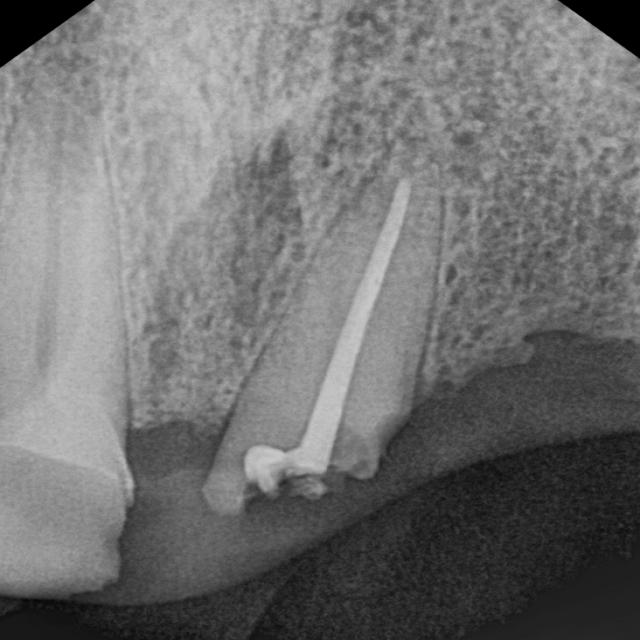RCT: (310, 155, 482, 281)
